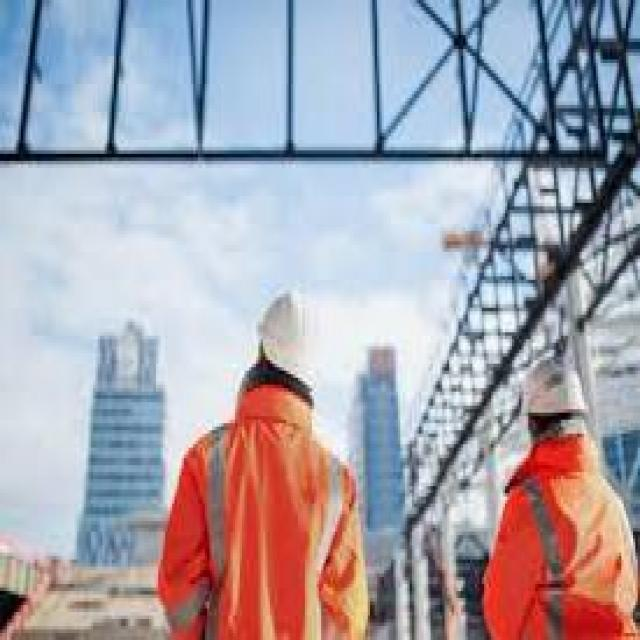Reflective-Jacket: (163, 388, 370, 640), (475, 434, 635, 636)
Safety-Helmet: (507, 325, 598, 434)
